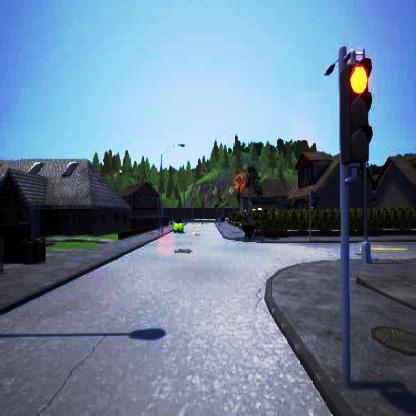vehicle: (172, 216, 184, 233)
